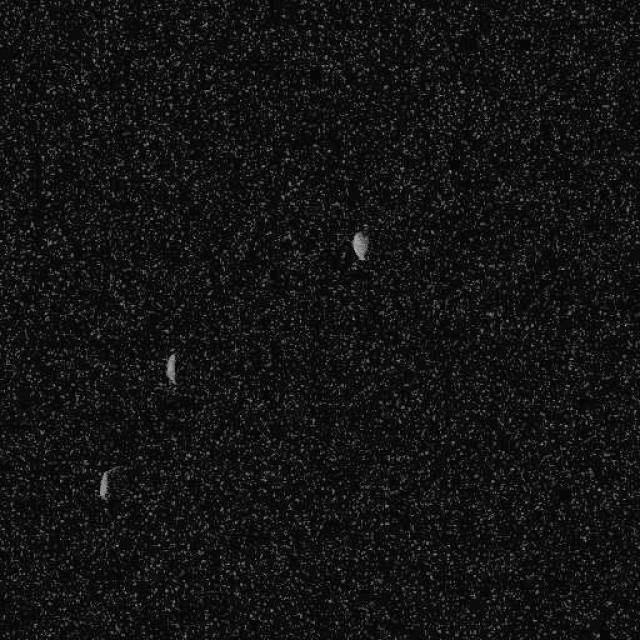D2: (350, 230, 369, 261), (164, 350, 178, 385), (98, 469, 111, 501)
